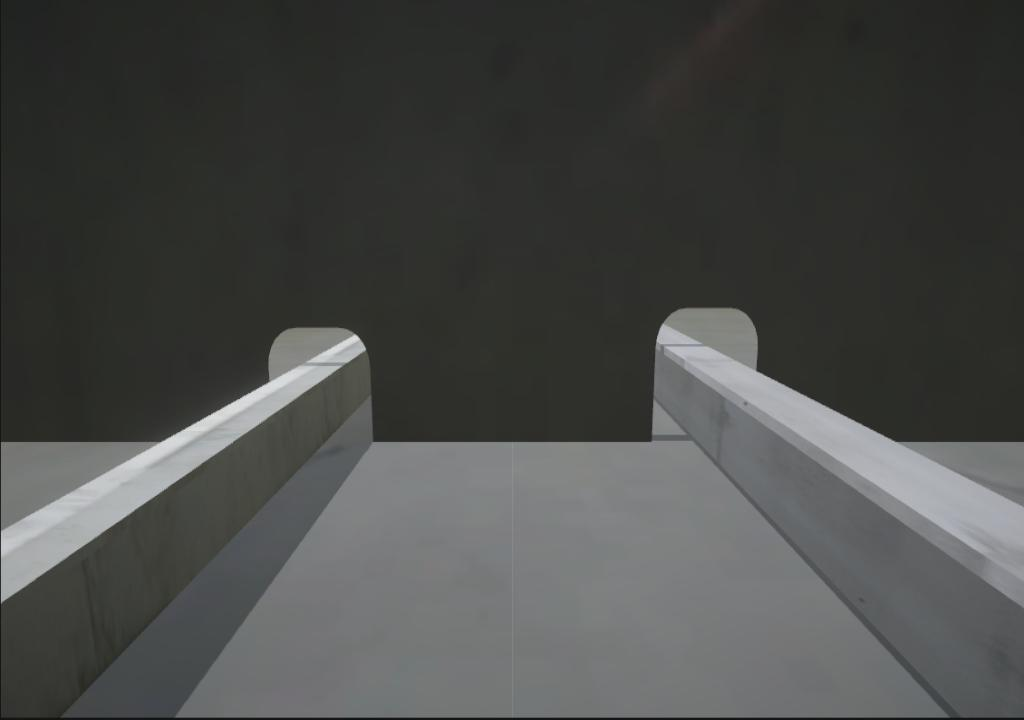fillet_yong_jeop_jang: (365, 418, 667, 455)
